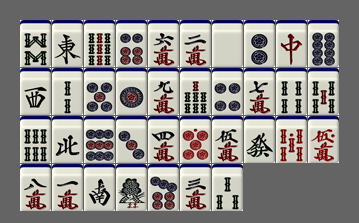0m: (308, 116, 339, 163)
0p: (180, 116, 211, 163)
0s: (276, 116, 307, 163)
1m: (52, 164, 83, 211)
1p: (116, 68, 147, 115)
1s: (116, 164, 147, 211)
1z: (52, 20, 83, 67)
2m: (180, 20, 211, 67)
2p: (244, 20, 275, 67)
2s: (52, 68, 83, 115)
2z: (84, 164, 115, 211)
3m: (180, 164, 211, 211)
3p: (116, 116, 147, 163)
3s: (212, 164, 243, 211)
3z: (20, 68, 51, 115)
4m: (148, 116, 179, 163)
4p: (212, 68, 243, 115)
4s: (276, 68, 307, 115)
4z: (52, 116, 83, 163)
5m: (212, 116, 243, 163)
5p: (84, 68, 115, 115)
5s: (308, 68, 339, 115)
5z: (212, 20, 243, 67)
6m: (148, 20, 179, 67)
6p: (116, 20, 147, 67)
6s: (20, 116, 51, 163)
6z: (244, 116, 275, 163)
7m: (244, 68, 275, 115)
7p: (148, 164, 179, 211)
7s: (180, 68, 211, 115)
7z: (276, 20, 307, 67)
8m: (20, 164, 51, 211)
8p: (308, 20, 339, 67)
8s: (20, 20, 51, 67)
9m: (148, 68, 179, 115)
9p: (84, 116, 115, 163)
9s: (84, 20, 115, 67)
